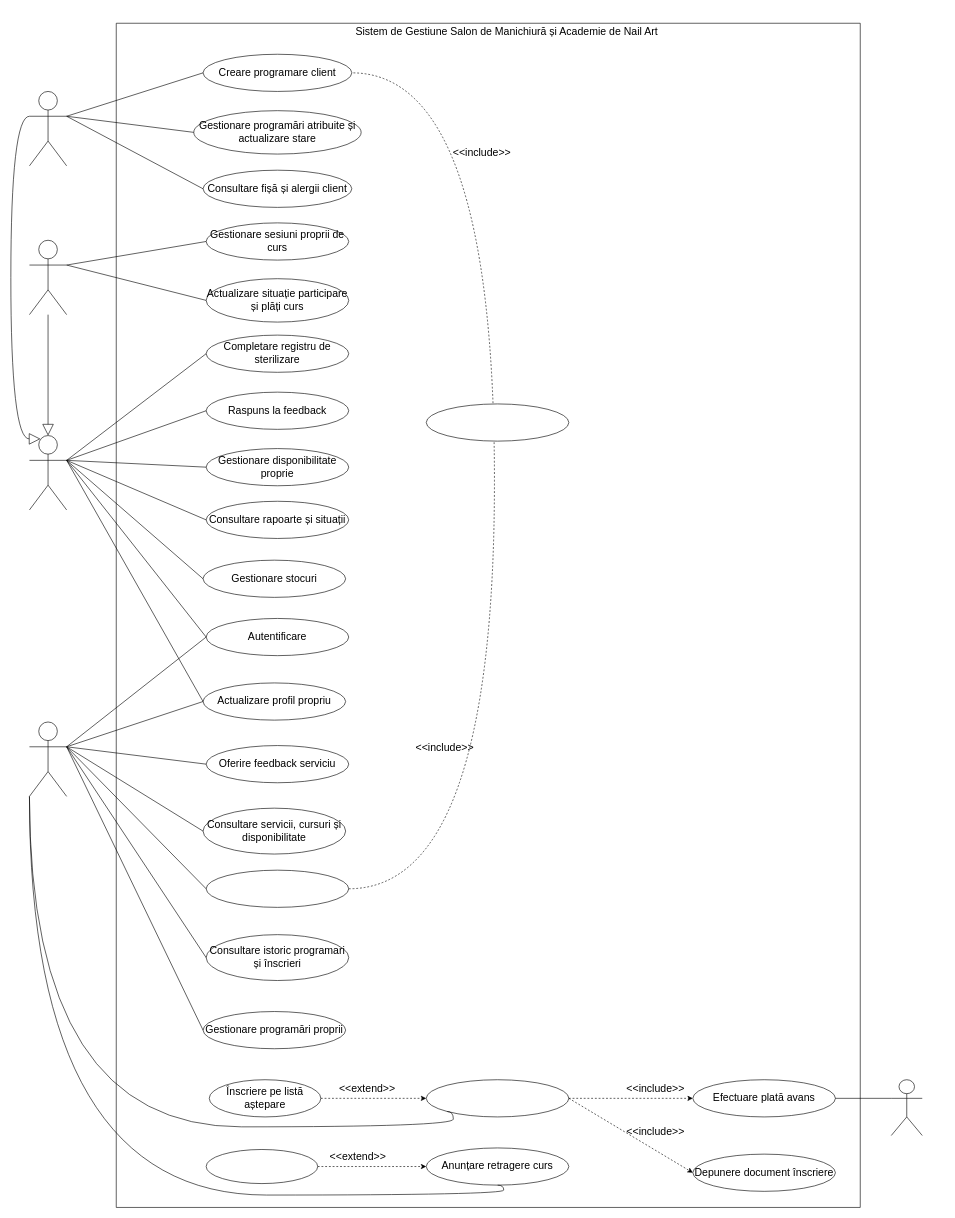
Image size: 955x1218. Some labels were removed from this diagram. Each missing label, with the box of its shape:
Angajat: (29, 435, 67, 510)
Client: (29, 721, 67, 796)
Creare programare: (206, 870, 349, 907)
Procesator Plati: (891, 1079, 922, 1136)
Propunere înlocuitor: (206, 1149, 318, 1184)
Tehnician: (29, 91, 67, 166)
Trainer: (29, 240, 67, 315)
Verificare disponibilitate tehnician: (426, 403, 569, 441)
Înscriere la sesiune curs: (426, 1079, 569, 1117)
